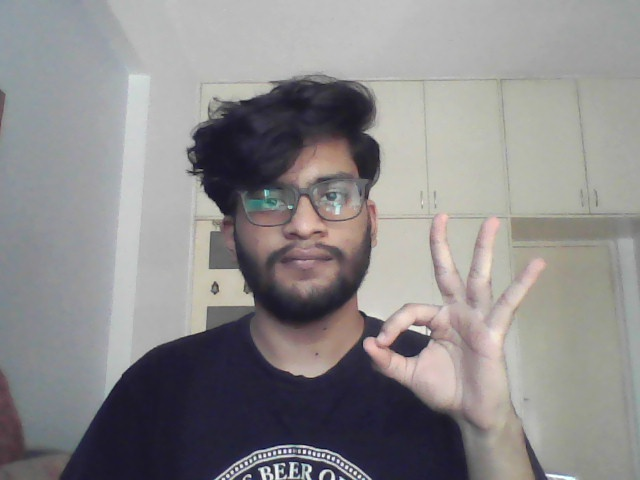Ok: (358, 210, 557, 427)
